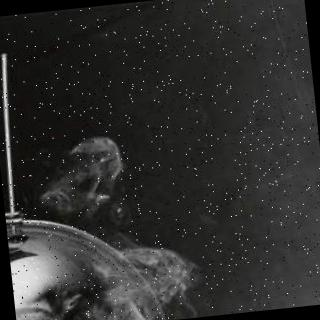smoke: (47, 233, 211, 320)
